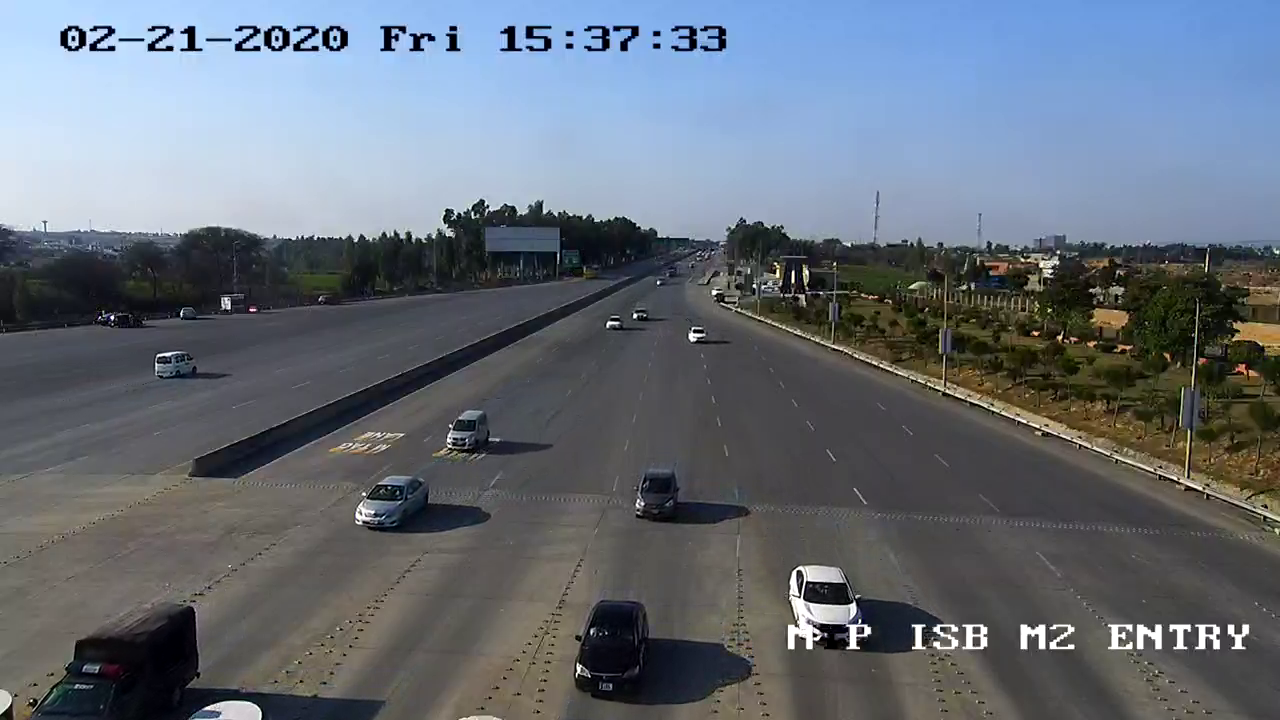f1: (563, 577, 657, 708), (343, 464, 437, 538), (789, 554, 861, 644), (432, 400, 497, 469), (625, 464, 688, 528)
